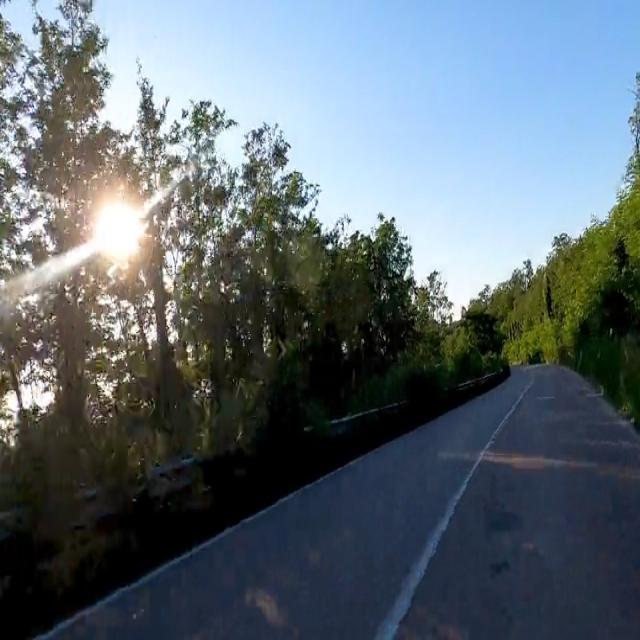lane: (375, 380, 532, 639)
road: (47, 366, 639, 638)
